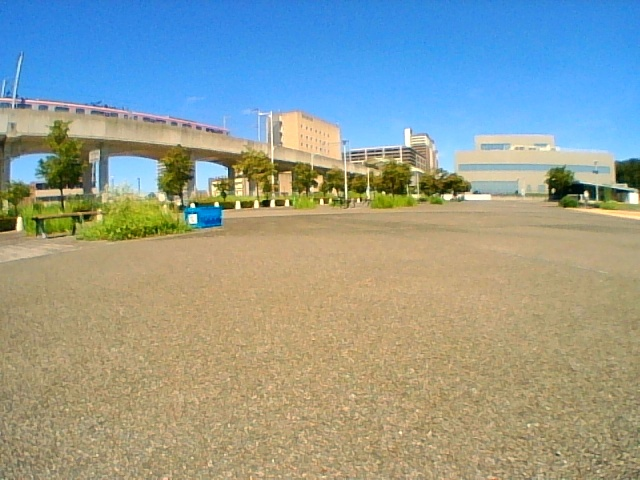blue_box: (185, 207, 221, 227)
tag: (189, 215, 196, 224)
